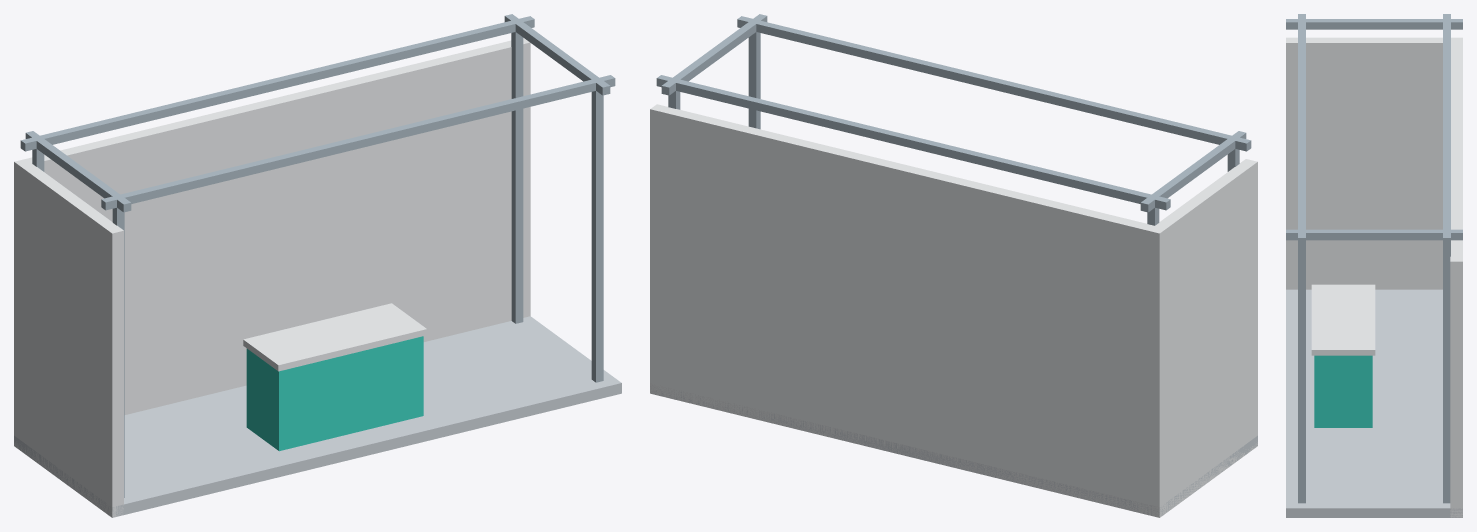
3 renders of one model, left to right at view 1: azimuth 30°, elevation 25°; view 2: azimuth 150°, elevation 25°; view 3: azimuth 270°, elevation 25°, orthographic. The views are drawn at different scales.
Parts seen in each view (by area): view 1: Exhibition Booth Concept; view 2: Exhibition Booth Concept; view 3: Exhibition Booth Concept.
Boxes of the visible parts, x1,y1,x2,y2 form: Exhibition Booth Concept: [14, 14, 621, 517]; Exhibition Booth Concept: [650, 14, 1257, 517]; Exhibition Booth Concept: [1286, 14, 1462, 517].
Bounding box in the file's own units: 6 × 3.49 × 2.
